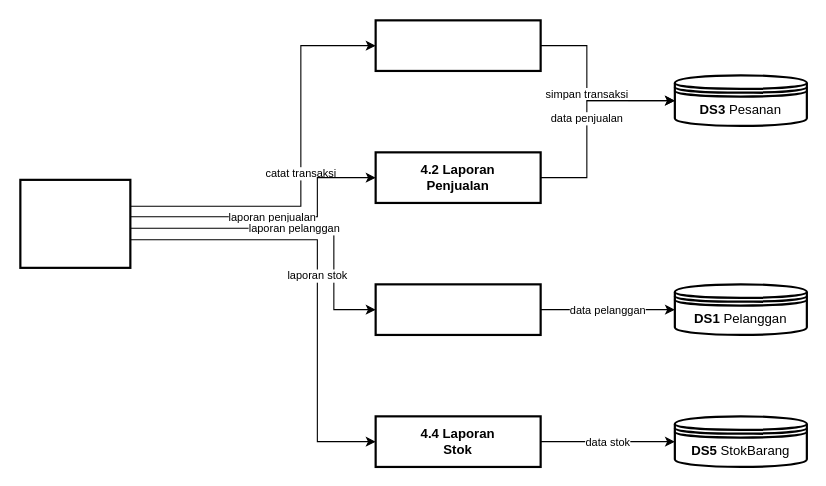
Image size: 826x486. Some labels were removed from this diagram. Each missing label, with the centre of its shape:
"4.1 Catat Transaksi POS" belongs at (457,45).
"4.3 Laporan Pelanggan" belongs at (457,309).
"ADMIN" belongs at (75,223).
